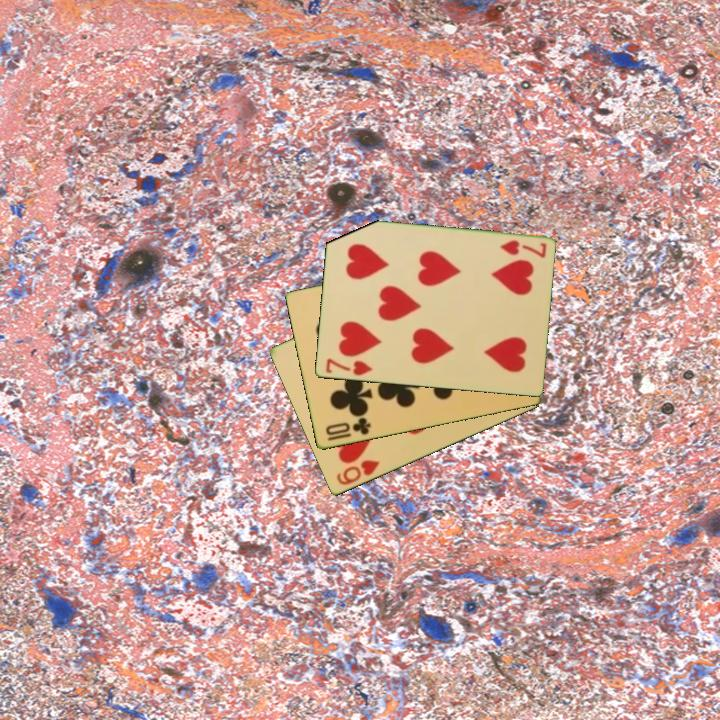10c: (322, 414, 373, 444)
6h: (333, 456, 383, 489)
7h: (322, 355, 376, 379), (496, 237, 549, 261)
